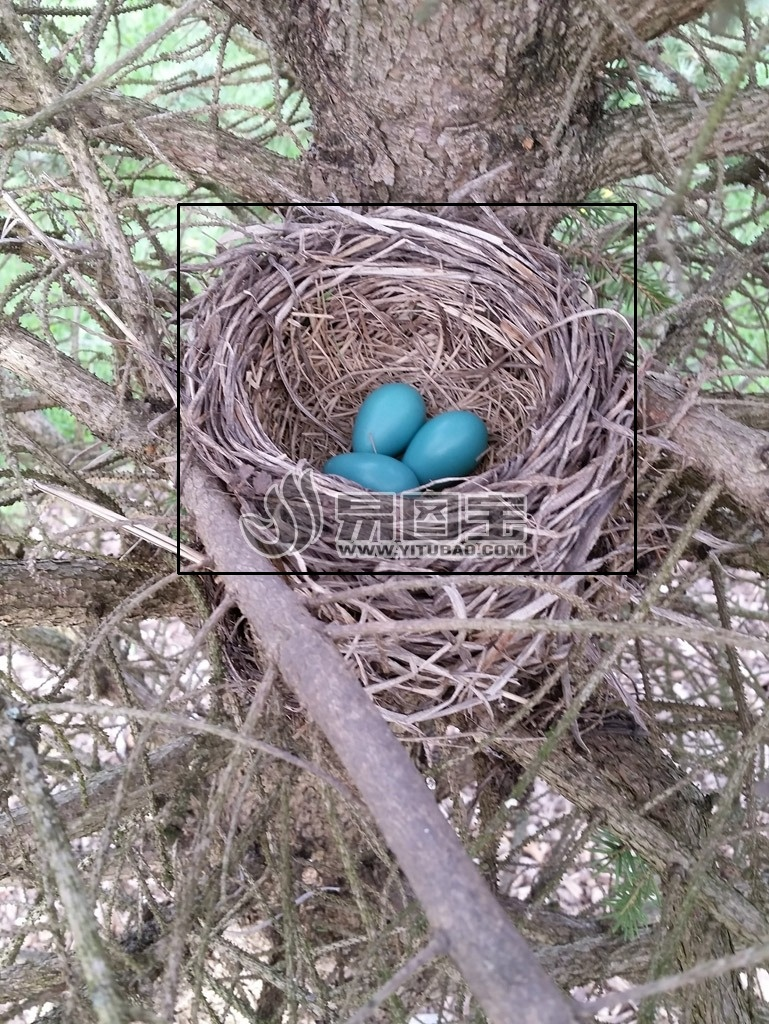bird-nest: (178, 204, 635, 573)
